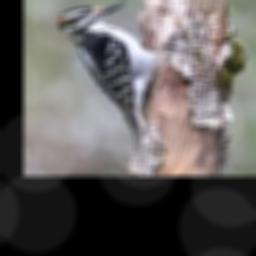Woodpecker: (58, 2, 160, 146)
